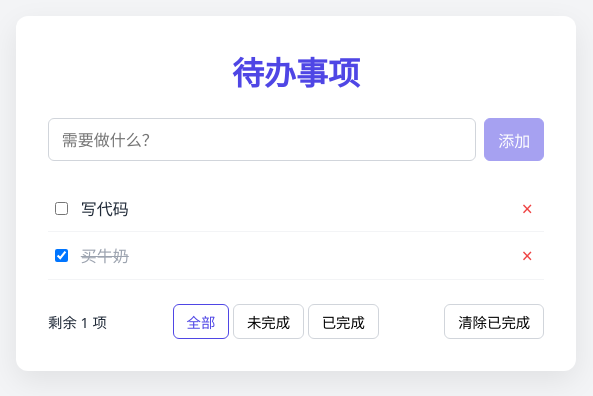
Scenario: App › toggles a todo
Click the checkbox labelled "写代码": [62, 208] box [55,202,68,215]
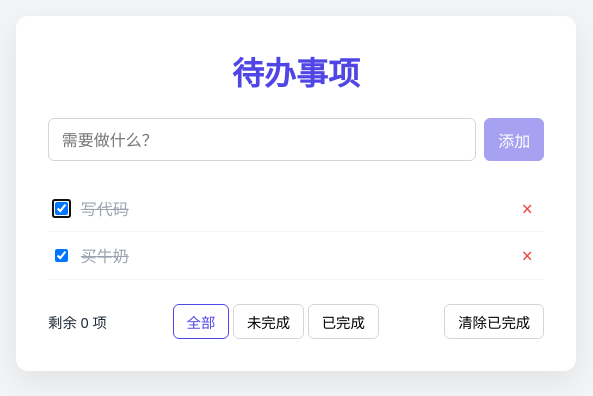
expect the text "剩余 0 项" is shown: met, box [48,311,107,332]
